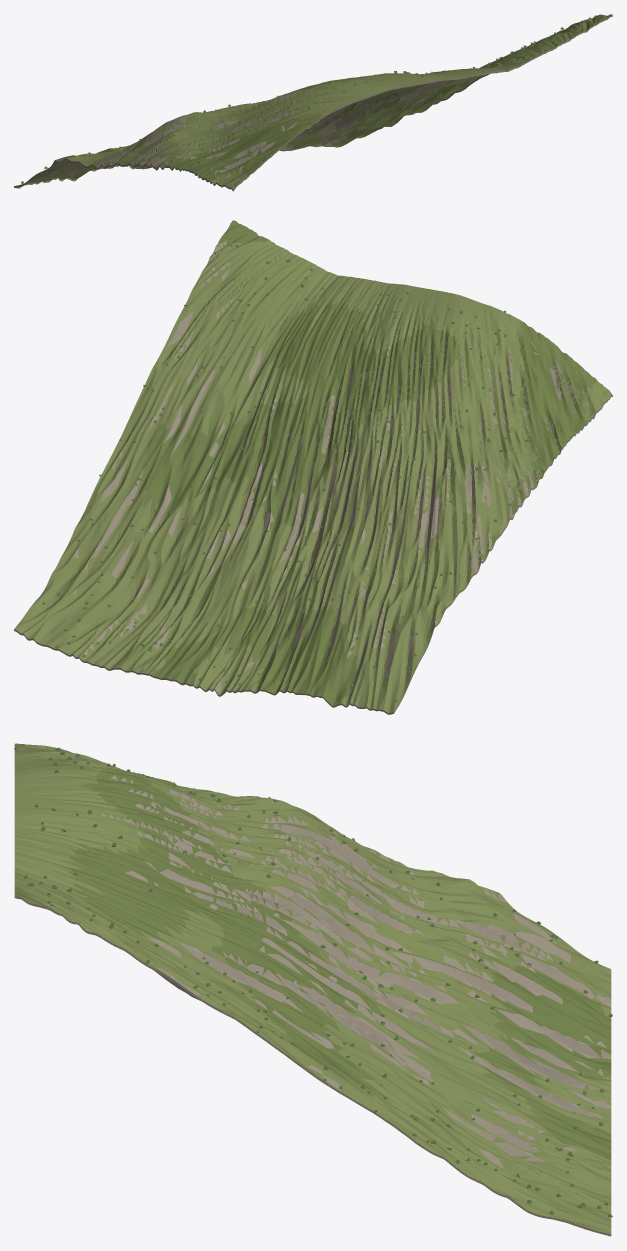
The model's file is parca_+6_-5-yakin.glb.
The picture shows the model from 3 angles, top to bottom: view 1: azimuth 30°, elevation 25°; view 2: azimuth 150°, elevation 25°; view 3: azimuth 270°, elevation 25°; orthographic projection. The views are drawn at different scales.
Visible parts, largest first — view 1: parca_+6_-5_arazi, parca_+6_-5_bitkiler; view 2: parca_+6_-5_arazi, parca_+6_-5_bitkiler; view 3: parca_+6_-5_arazi, parca_+6_-5_bitkiler.
Part boxes in pixels (x1=…): parca_+6_-5_arazi: x1=14, y1=14, x2=612, y2=191; parca_+6_-5_bitkiler: x1=21, y1=19, x2=588, y2=183; parca_+6_-5_arazi: x1=14, y1=220, x2=612, y2=714; parca_+6_-5_bitkiler: x1=42, y1=245, x2=528, y2=704; parca_+6_-5_arazi: x1=14, y1=743, x2=611, y2=1236; parca_+6_-5_bitkiler: x1=14, y1=747, x2=612, y2=1217.
Bounding box in the file's own units: 1003 × 672 × 1004.
